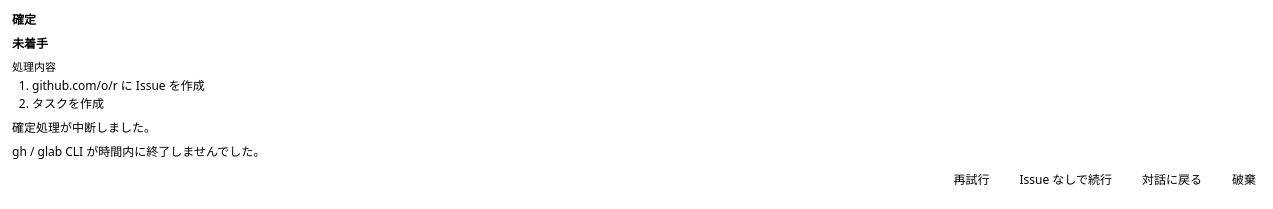
Test: FinalizePanel › shows this window's latest failure over the recorded one
Click the button with class "intake-finalize__retry". click: click(971, 179)
box: [941, 166, 1001, 192]
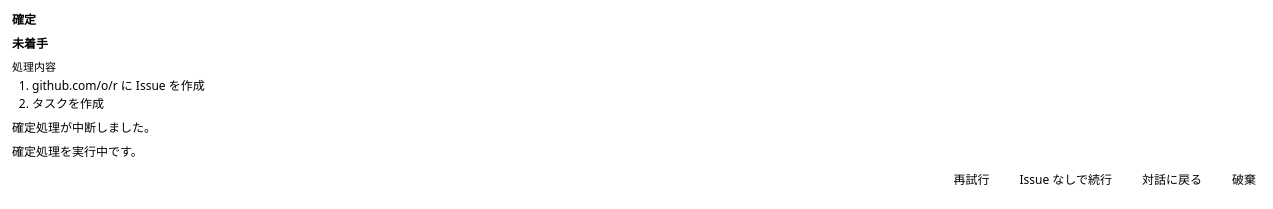
Now the message with class "intake-finalize__error" reads "確定処理を実行中です。", box [12, 143, 143, 160]
